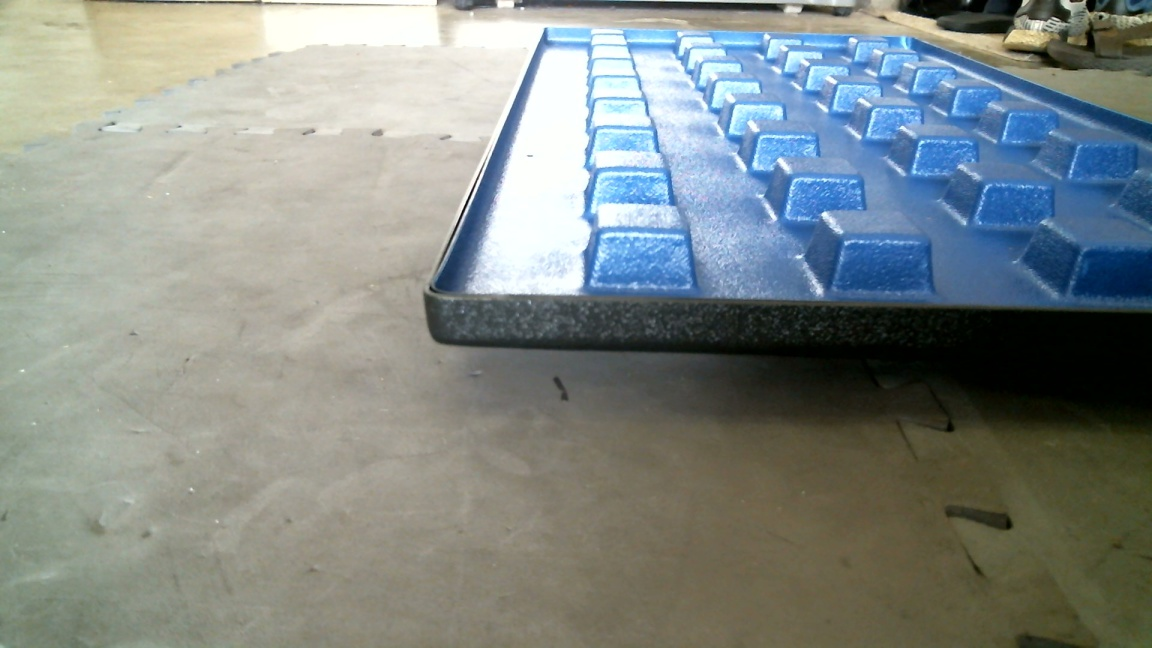blue_foundation: (423, 28, 1152, 375)
